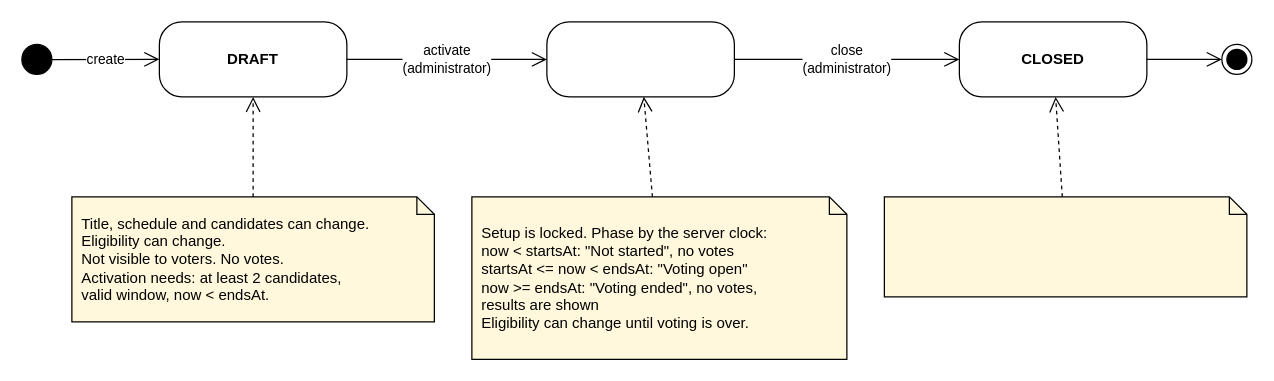
Image size: 1274x381. Some labels were removed from this diagram. Here are the shapes that lost their labels. From the top down, the box of each, then its label:
(546, 21, 734, 97): OPEN
(883, 196, 1247, 297): Final: never reopened. No votes. Results are shown. Eligibility is frozen.
